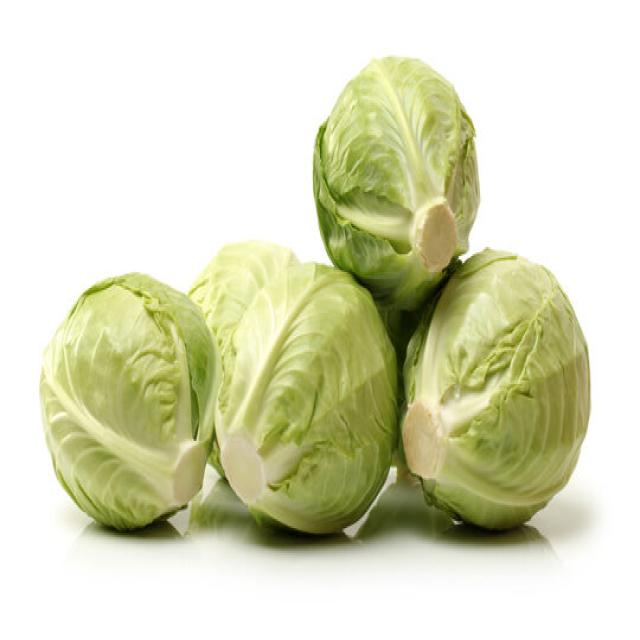Cabbage: (186, 238, 399, 535), (400, 246, 590, 532), (38, 271, 220, 534), (311, 53, 480, 311)
